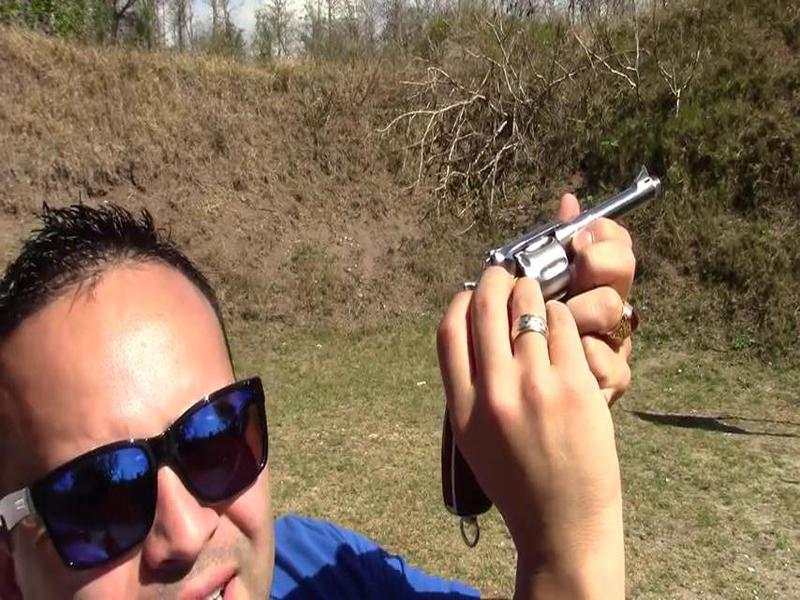Revolver: (444, 162, 671, 537)
